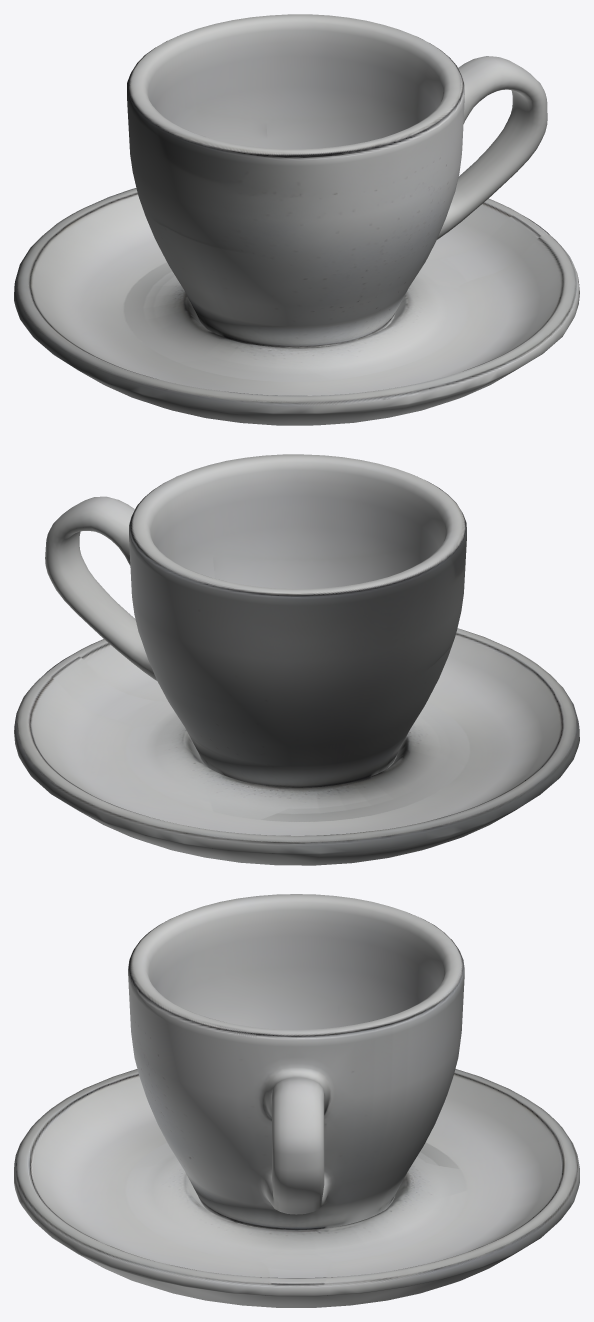
Rendered from coffee_cup_-_realistic_3d_model.glb.
3 views of the same model, one above another, from view 1: azimuth 30°, elevation 25°; view 2: azimuth 150°, elevation 25°; view 3: azimuth 270°, elevation 25° (orthographic).
Visible parts, largest first — view 1: mesh_rep_0_ori_repair_quad_0; view 2: mesh_rep_0_ori_repair_quad_0; view 3: mesh_rep_0_ori_repair_quad_0.
Part boxes in pixels (bbox=[...]): mesh_rep_0_ori_repair_quad_0: bbox=[14, 14, 579, 425]; mesh_rep_0_ori_repair_quad_0: bbox=[14, 454, 579, 865]; mesh_rep_0_ori_repair_quad_0: bbox=[14, 894, 579, 1307].
Bounding box in the file's own units: 0.1434 × 0.0773 × 0.1434.
1 material, 1 textured.
